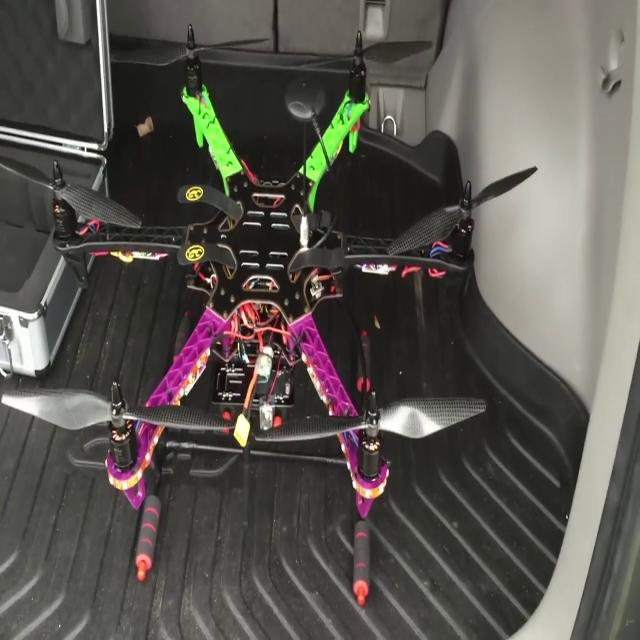drone: (30, 13, 498, 576)
